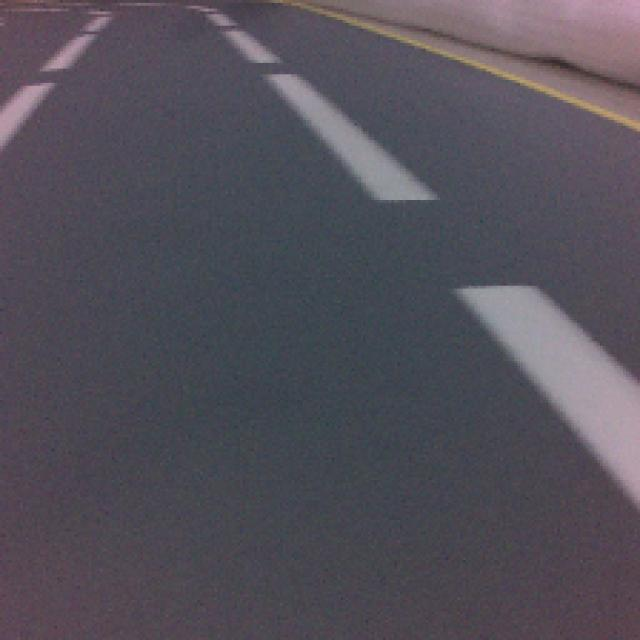Road: (0, 397, 640, 640)
